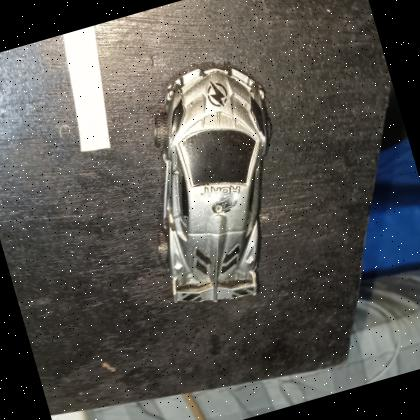Car: (162, 63, 271, 301)
